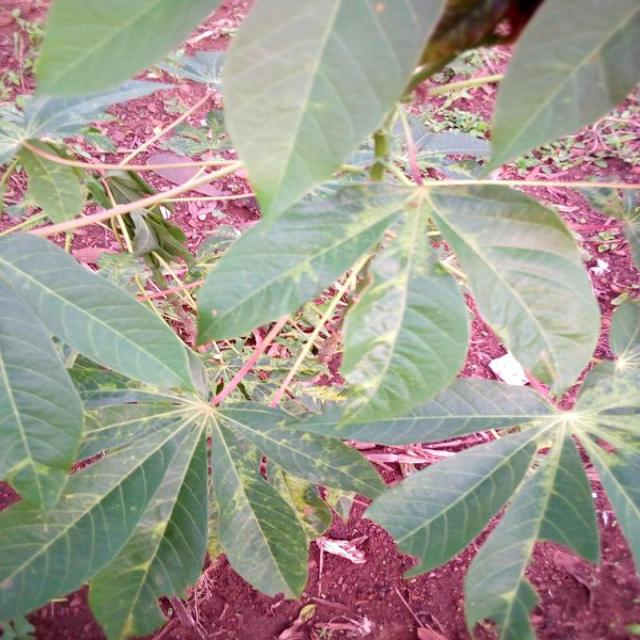cassava leaf: (1, 0, 638, 638), (220, 0, 444, 226), (424, 177, 602, 397), (0, 229, 208, 399), (476, 0, 638, 179)
